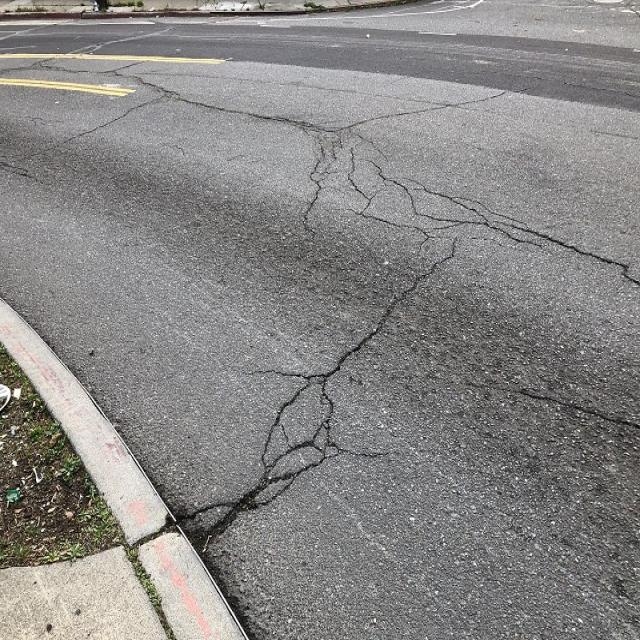Pothole: (0, 135, 520, 640)
